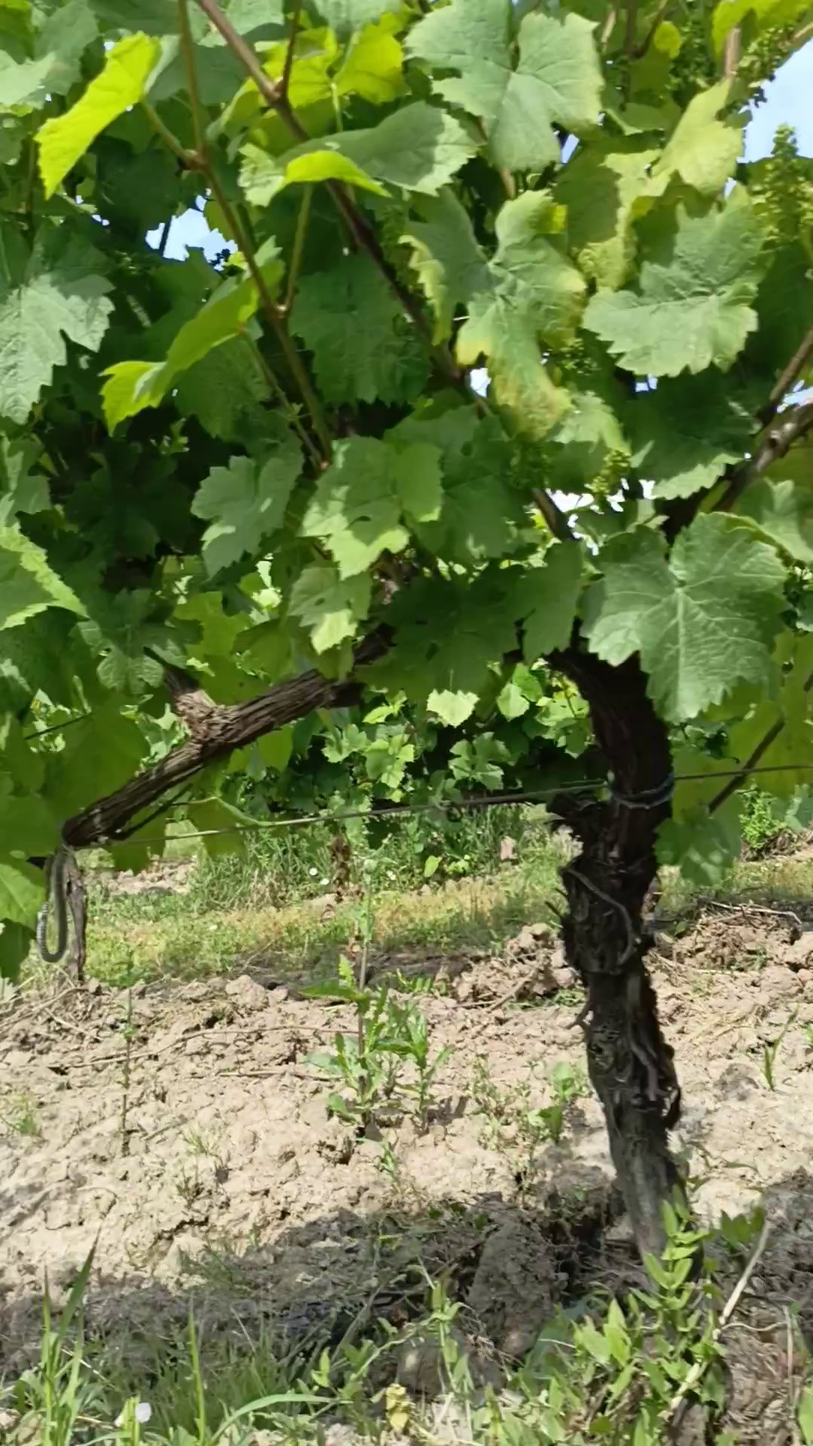vine_trunk: (549, 643, 682, 1254)
